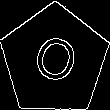O_S: (27, 29, 82, 92)
